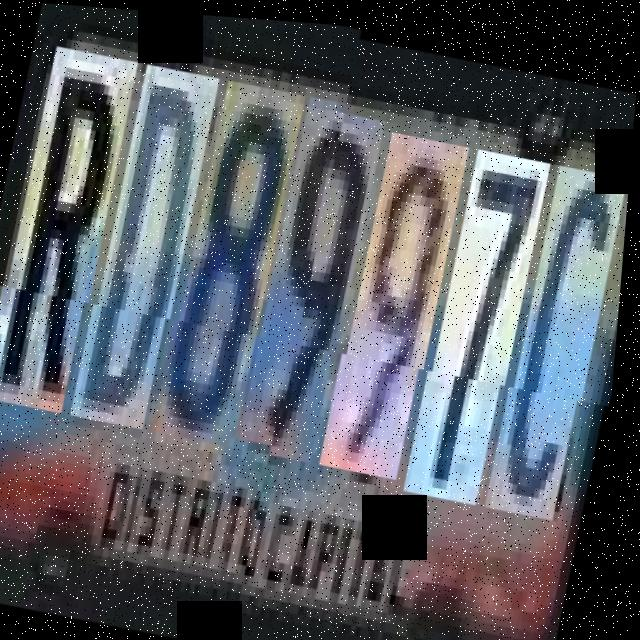7: (415, 139, 553, 500)
8: (160, 83, 305, 455)
9: (243, 98, 387, 460), (330, 123, 471, 476)
C: (497, 154, 630, 514)
D: (79, 68, 219, 439)
R: (0, 52, 137, 424)
